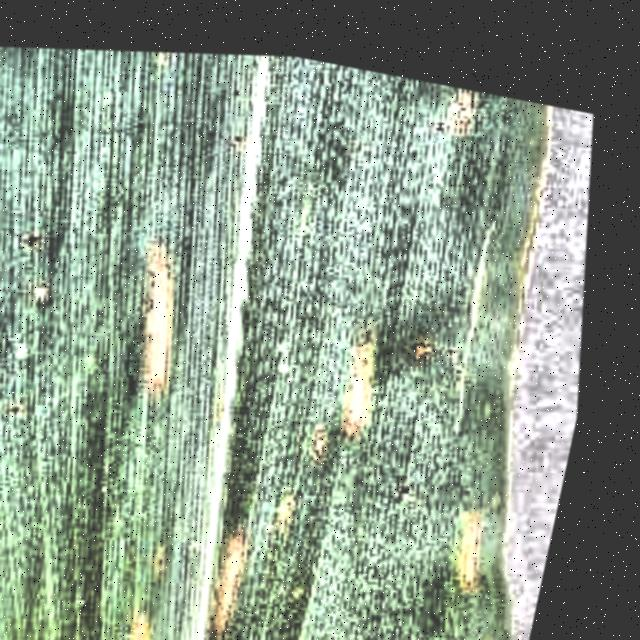gray_spot: (0, 18, 640, 640)
